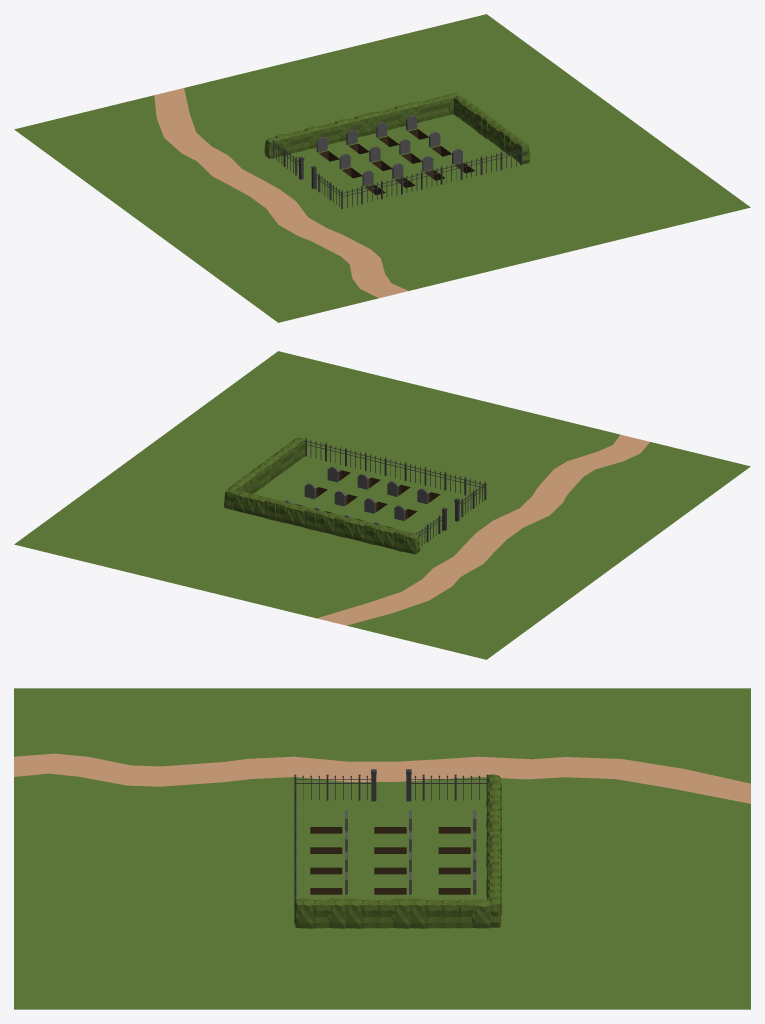
Rendered from begraafplaats.fbx.
3 renders of one model, top to bottom at view 1: azimuth 30°, elevation 25°; view 2: azimuth 150°, elevation 25°; view 3: azimuth 270°, elevation 25°, orthographic. The views are drawn at different scales.
Visible parts, largest first — view 1: Gras, Weg, Heg, Hek, Heg.001, Gaten; view 2: Gras, Weg, Heg, Hek, Heg.001, Gaten; view 3: Gras, Weg, Heg.001, Gaten, Heg, Hek.
Boxes of the visible parts, x1,y1,x2,y2 form: Gras: [14, 14, 750, 322]; Weg: [154, 88, 407, 298]; Heg: [264, 93, 458, 158]; Hek: [272, 140, 522, 208]; Heg.001: [453, 96, 530, 164]; Gaten: [319, 129, 474, 195]; Gras: [14, 351, 750, 659]; Weg: [317, 434, 649, 625]; Heg: [224, 489, 420, 554]; Hek: [305, 438, 486, 545]; Heg.001: [228, 437, 305, 493]; Gaten: [295, 470, 440, 528]; Gras: [14, 688, 750, 1009]; Weg: [14, 753, 750, 803]; Heg.001: [294, 898, 491, 928]; Gaten: [310, 827, 470, 894]; Heg: [486, 774, 501, 927]; Hek: [294, 769, 488, 918].
Bounding box in the file's own units: 9500 × 608 × 9200.
